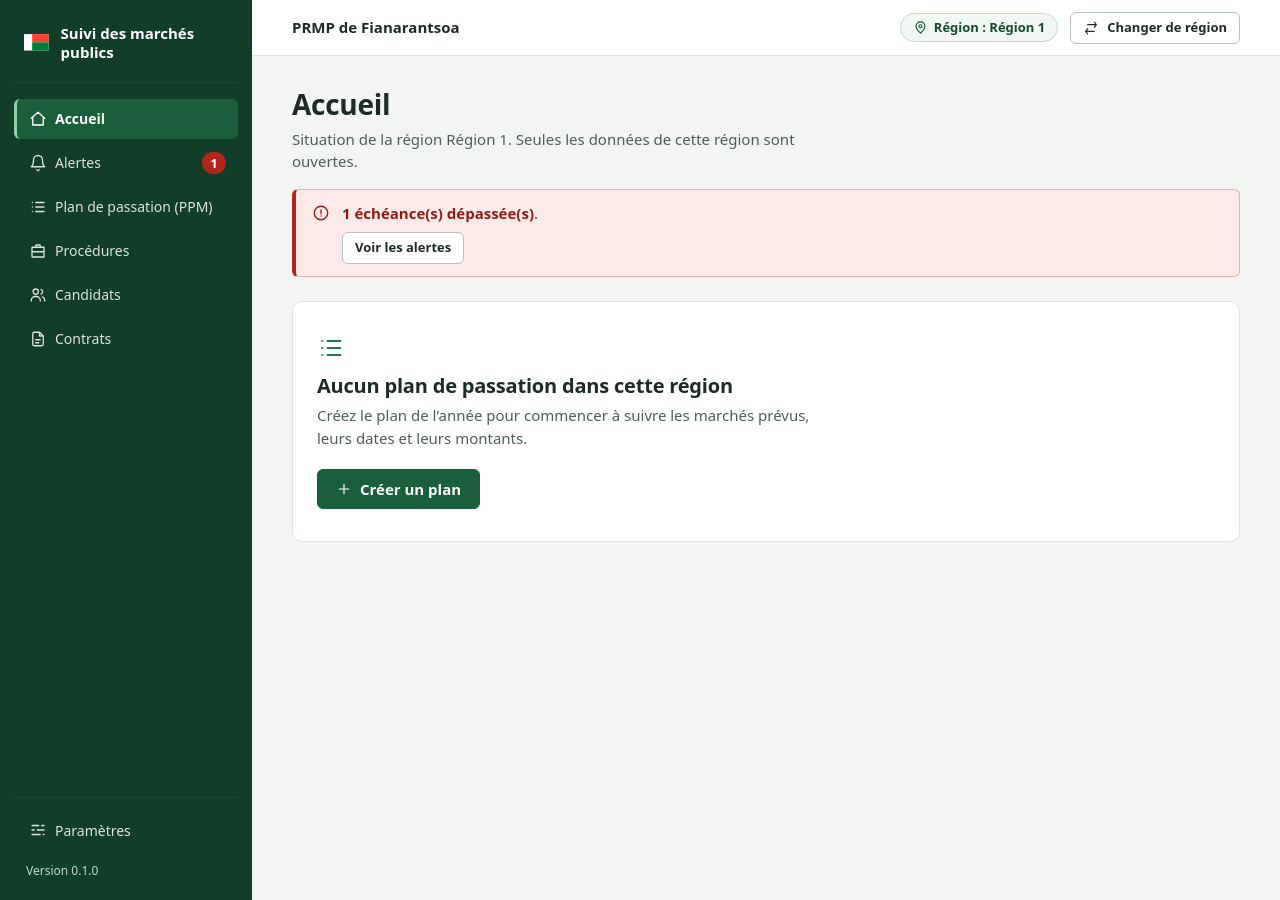
Test: alertes dans l’application › « Ouvrir » sur une alerte de procédure ouvre directement cette procédure
Click the button "Voir les alertes": coordinates (403, 248) left=342, top=232, right=464, bottom=264
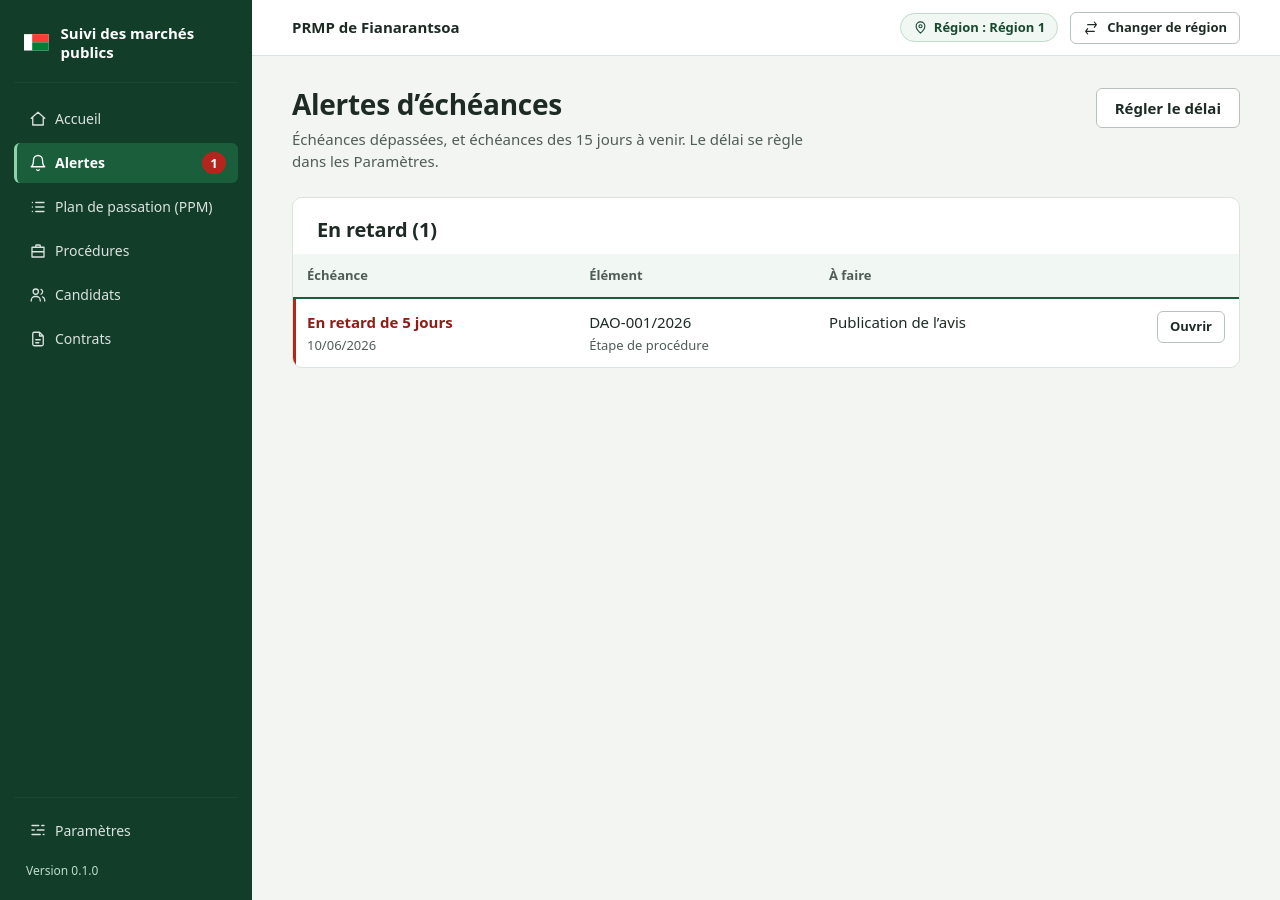
Click the button with aria-label "Ouvrir DAO-001/2026 : Publication de l’avis": coordinates (1191, 327) left=1157, top=311, right=1225, bottom=343
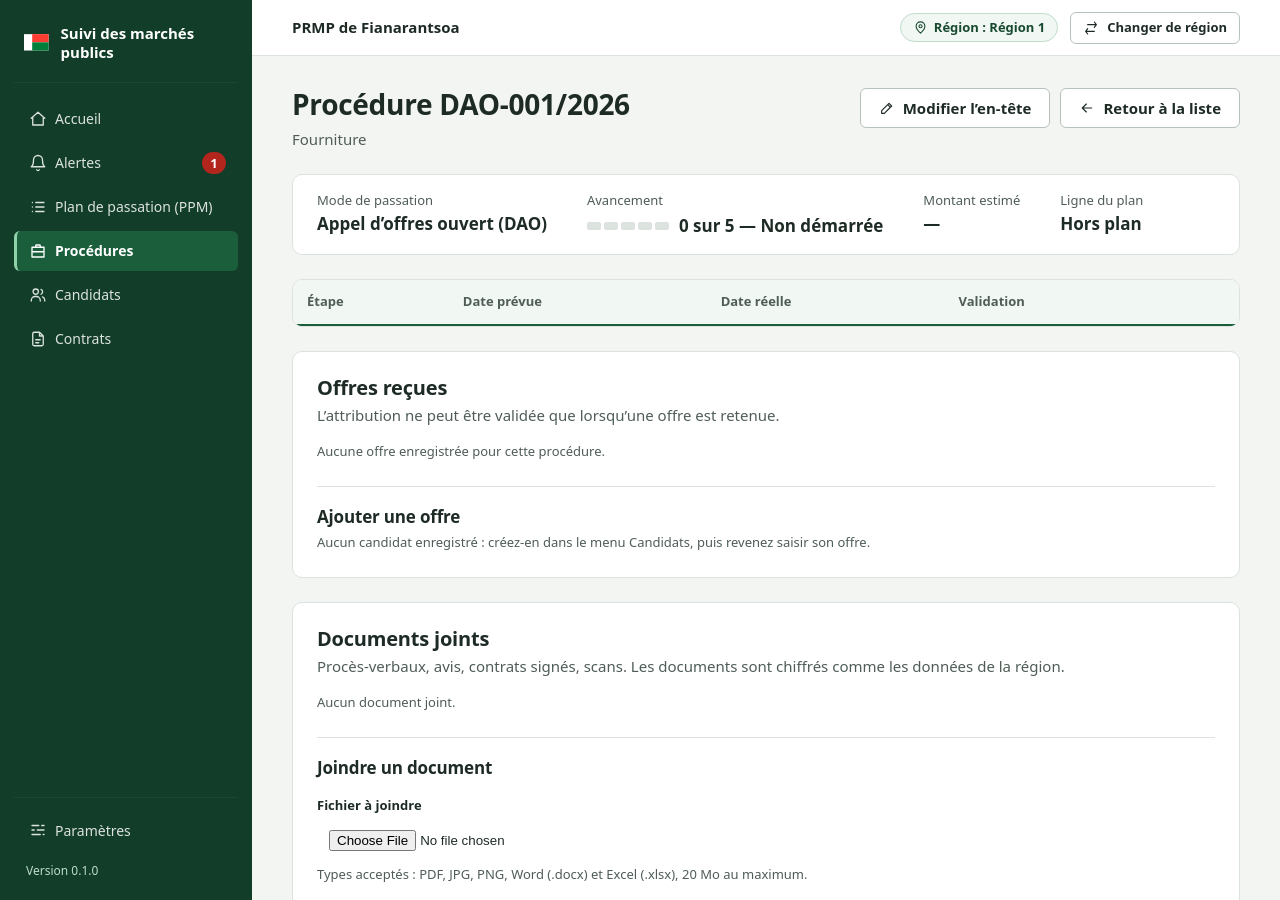
Expected: the heading "Procédure DAO-001/2026" is shown, left=292, top=88, right=630, bottom=122
